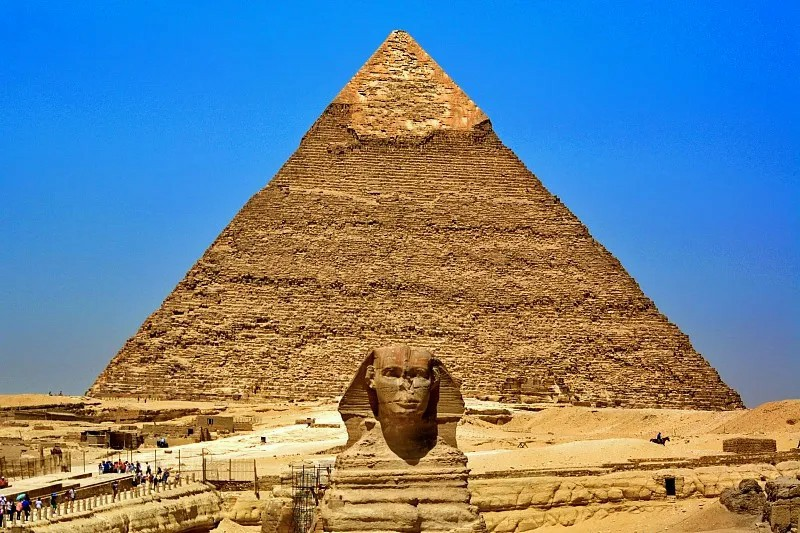Pyramid: (86, 30, 746, 408)
